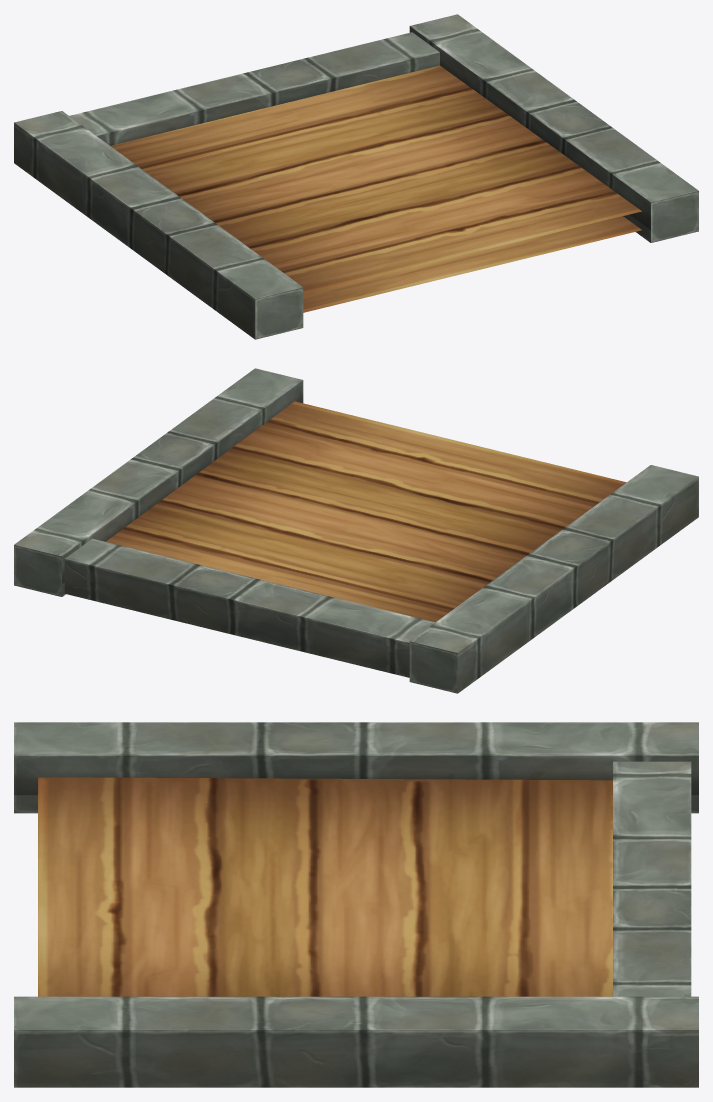
The model's file is bridge_03_tile_02.fbx.
3 renders of one model, top to bottom at view 1: azimuth 30°, elevation 25°; view 2: azimuth 150°, elevation 25°; view 3: azimuth 270°, elevation 25°, orthographic. The views are drawn at different scales.
Visible parts, largest first — view 1: bridge_03_tile_02; view 2: bridge_03_tile_02; view 3: bridge_03_tile_02.
Boxes of the visible parts, <box> form: bridge_03_tile_02: <box>14,14,698,339</box>; bridge_03_tile_02: <box>14,368,698,693</box>; bridge_03_tile_02: <box>14,722,698,1087</box>.
Size of the model in its own units: 2.28 by 0.1999 by 2.15.
